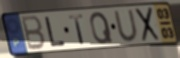B: (20, 15, 47, 52)
L: (43, 16, 67, 48)
Q: (89, 10, 115, 46)
T: (67, 13, 87, 46)
U: (112, 8, 141, 43)
X: (134, 6, 161, 43)
